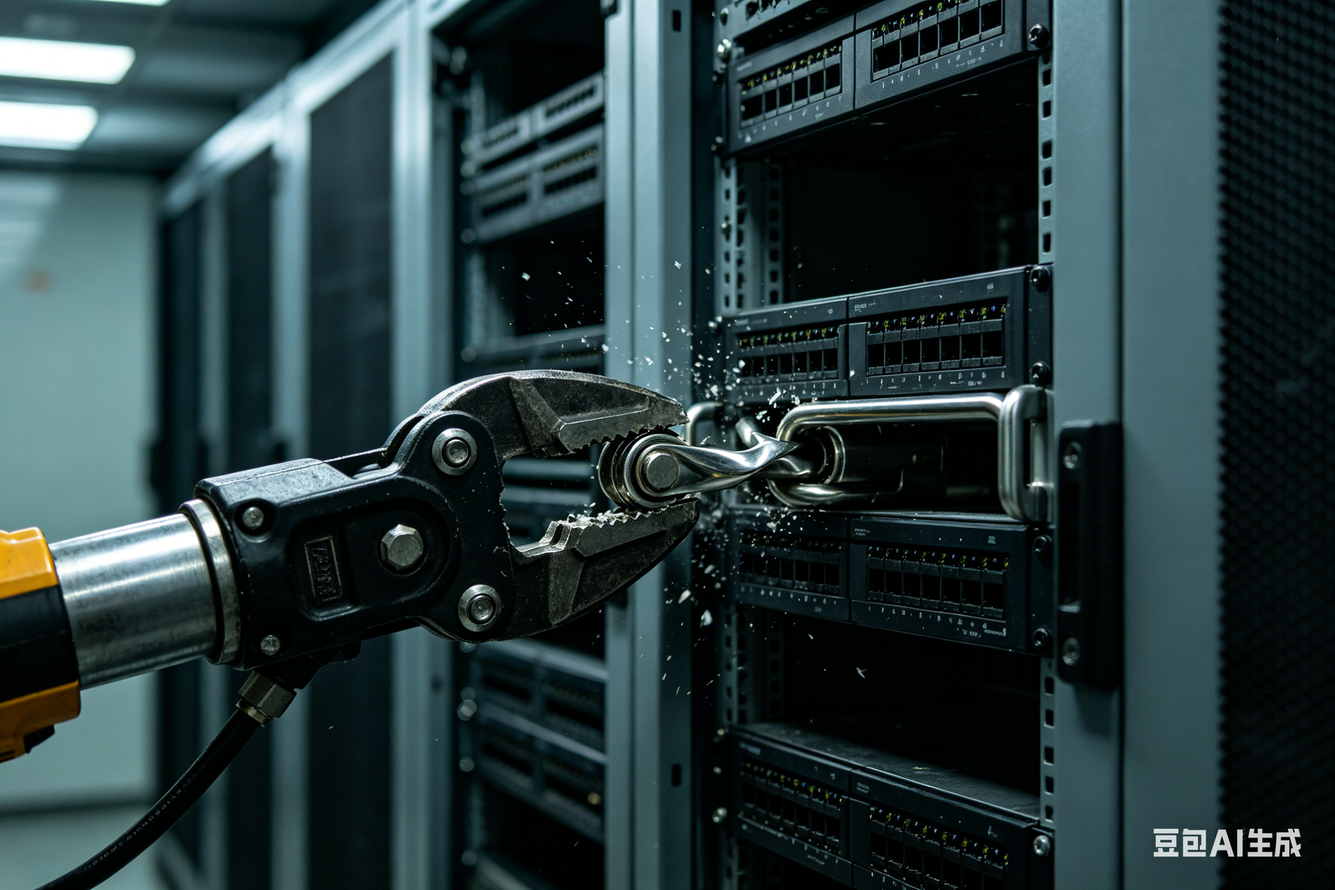BadLock: (586, 413, 883, 509)
